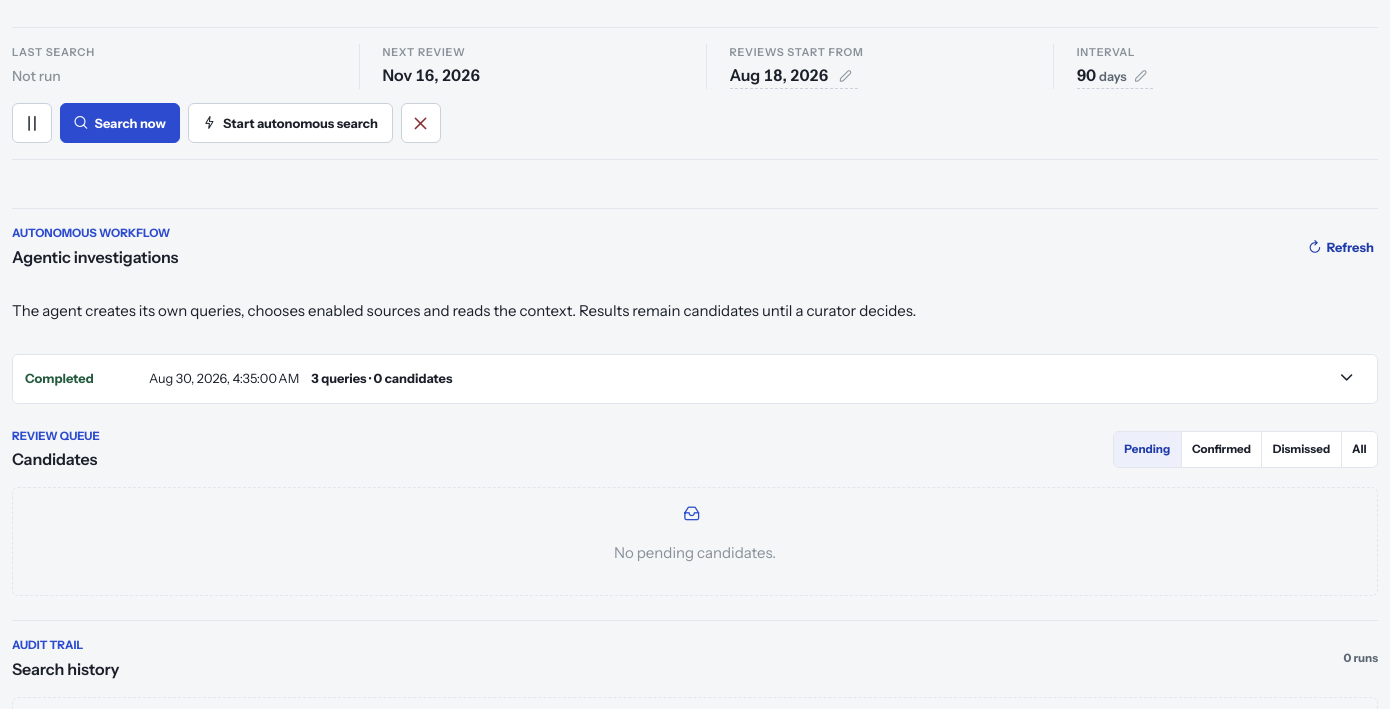
Test case: ScientificReturnPanelComponent › cuts the trajectory at each replanning and names the source behind a reading
(page scrolled)
Click the button with class "run-row" at (59, 378), box [13,354,1377,402]
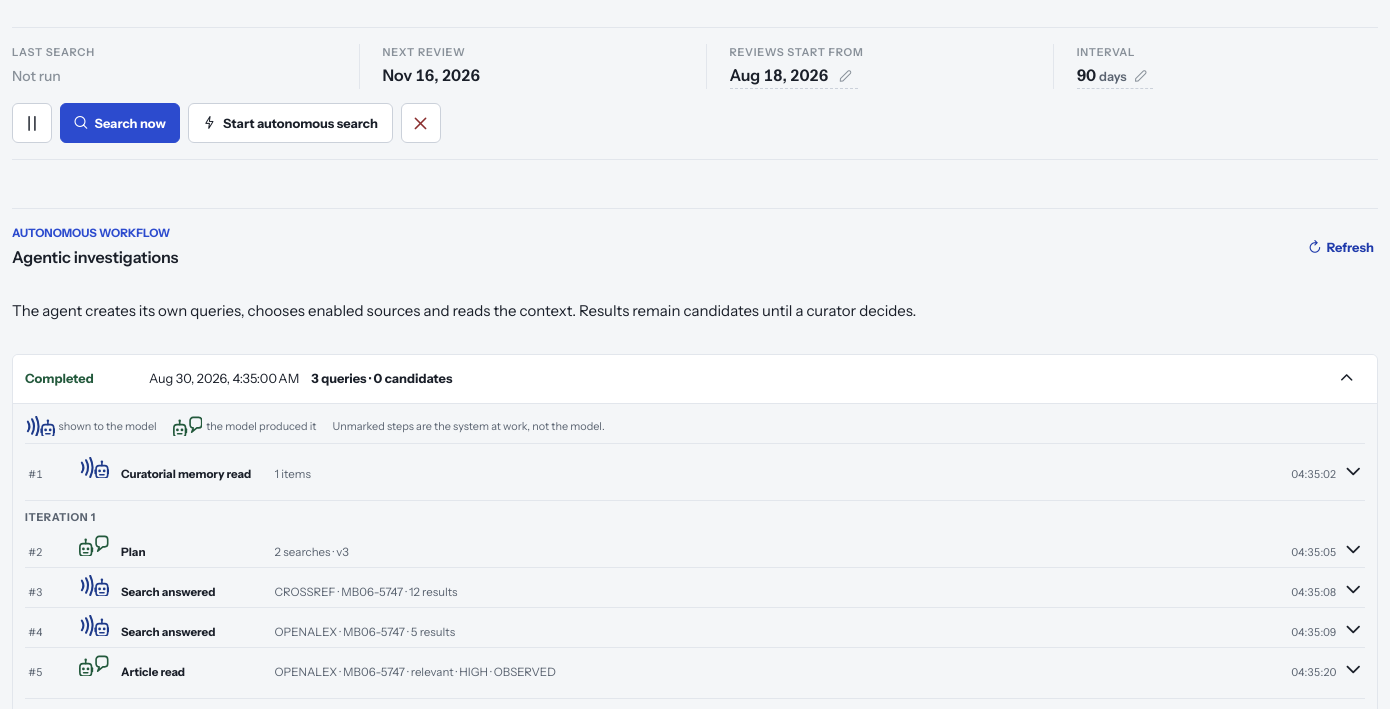
Expected: the element showing "#1 Curatorial memory read 1 items 04:35:02" is shown, [25,450,1365,489]
